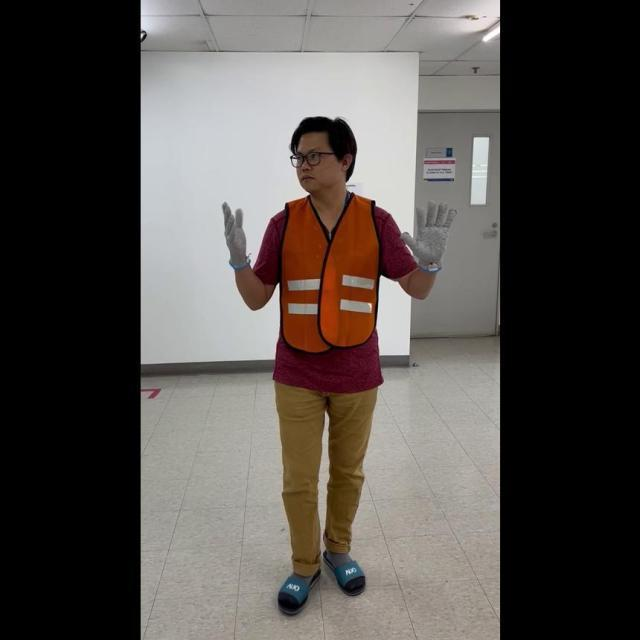gloved_hand: (400, 195, 455, 271), (219, 199, 252, 269)
